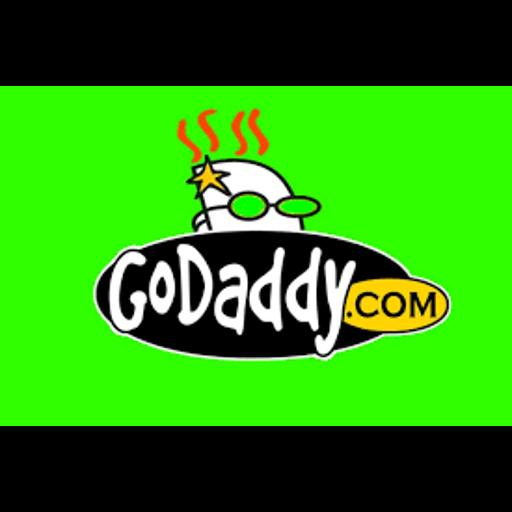GoDaddy: (0, 86, 512, 426)
